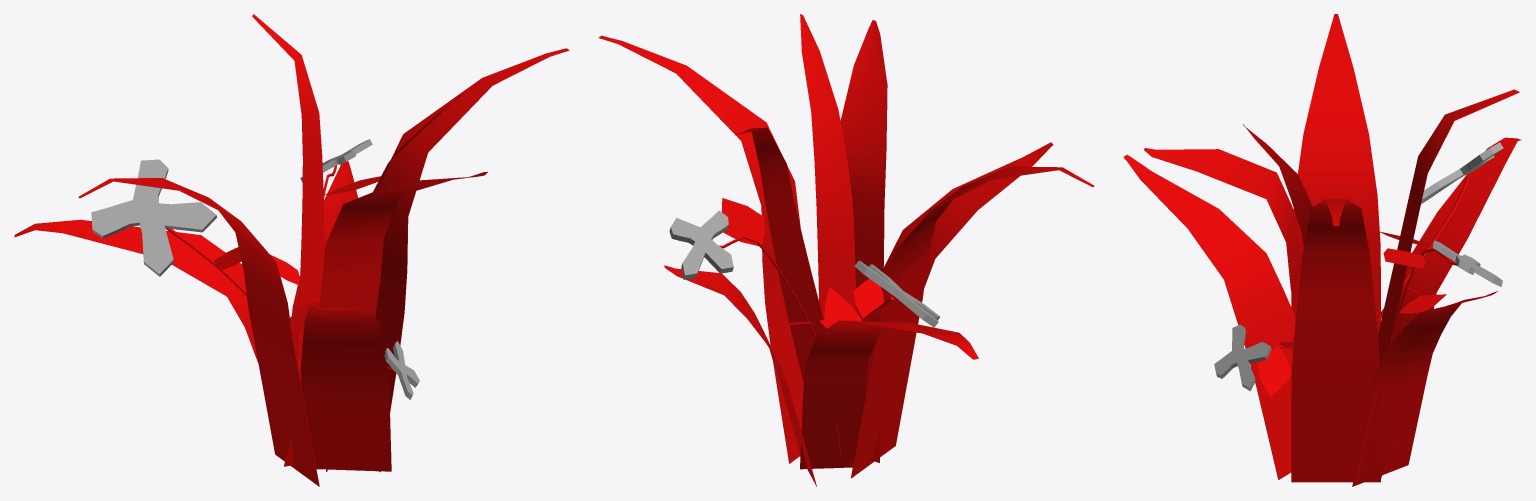
File: grass_flowers.fbx
3 renders of one model, left to right at view 1: azimuth 30°, elevation 25°; view 2: azimuth 150°, elevation 25°; view 3: azimuth 270°, elevation 25°, orthographic.
Parts seen in each view (by area): view 1: pPlane14; view 2: pPlane14; view 3: pPlane14.
Boxes of the visible parts, x1,y1,x2,y2 form: pPlane14: (14,14,569,486); pPlane14: (598,14,1094,486); pPlane14: (1123,14,1521,486).
Bounding box in the file's own units: 112 × 84.17 × 78.21.
